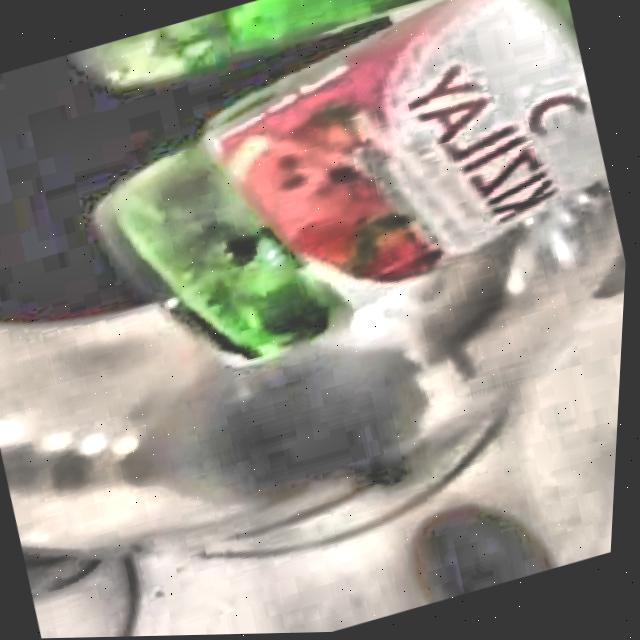glass: (102, 0, 610, 361)
